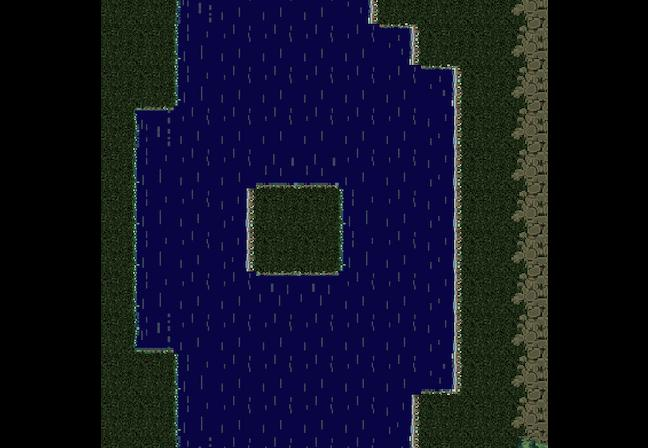Interaction: (438, 56, 478, 402), (120, 98, 160, 362), (152, 0, 192, 117), (154, 343, 194, 448), (404, 20, 465, 72), (401, 383, 443, 448), (360, 0, 422, 34)
Obstacle: (500, 436, 544, 448)
Slow: (182, 280, 404, 448), (181, 32, 408, 184), (346, 75, 445, 388), (139, 116, 242, 344), (185, 0, 365, 45)
